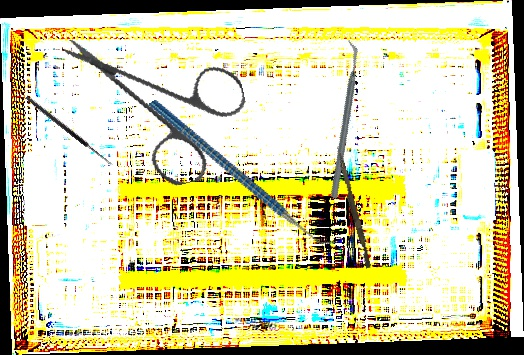Chopper: (148, 55, 340, 290), (273, 39, 413, 201)
Hook Surgical: (24, 91, 118, 167)
Iris Scissors: (62, 4, 261, 204)
Pusher: (331, 145, 375, 269)
